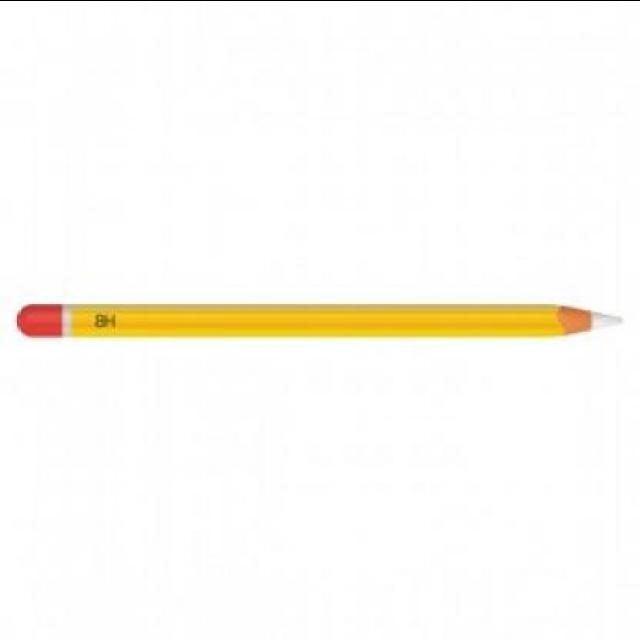Pencil: (511, 282, 627, 364)
